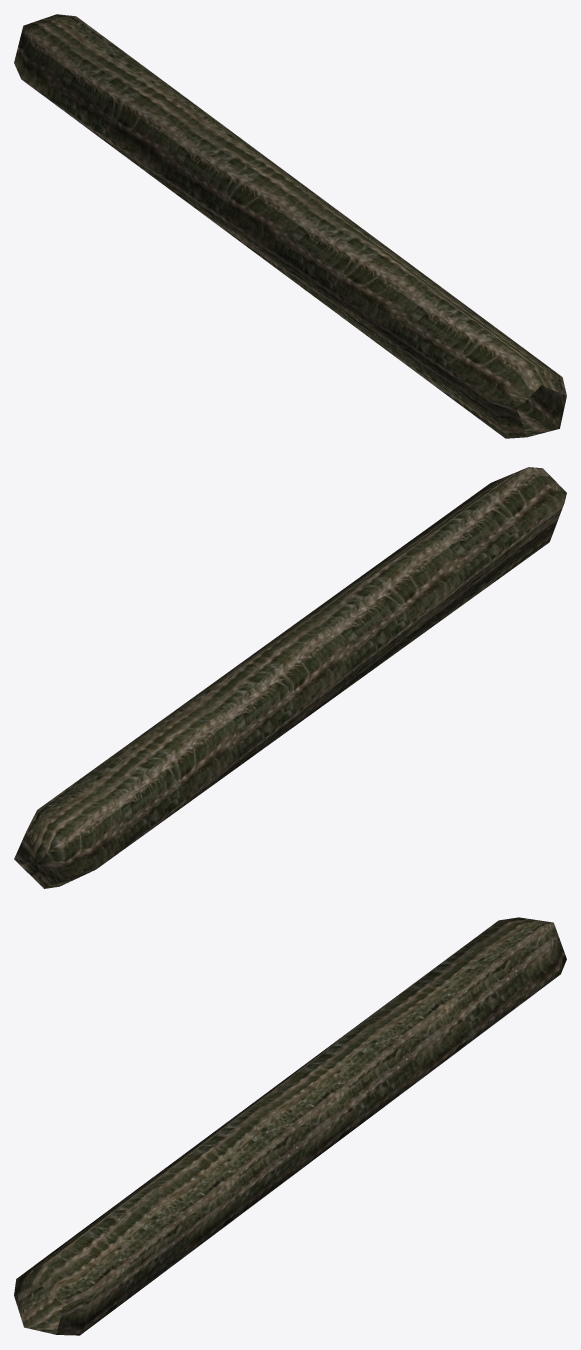
Rendered from MEP_Cactus_02.fbx.
3 renders of one model, top to bottom at view 1: azimuth 30°, elevation 25°; view 2: azimuth 150°, elevation 25°; view 3: azimuth 330°, elevation 25°, orthographic.
Parts seen in each view (by area): view 1: MEP_Cactus_02; view 2: MEP_Cactus_02; view 3: MEP_Cactus_02.
Boxes of the visible parts, bbox=[...] form: MEP_Cactus_02: bbox=[14, 14, 566, 438]; MEP_Cactus_02: bbox=[14, 467, 566, 888]; MEP_Cactus_02: bbox=[14, 917, 566, 1335].
Size of the model in its own units: 0.4936 by 0.491 by 5.75.
1 material, 1 textured.
